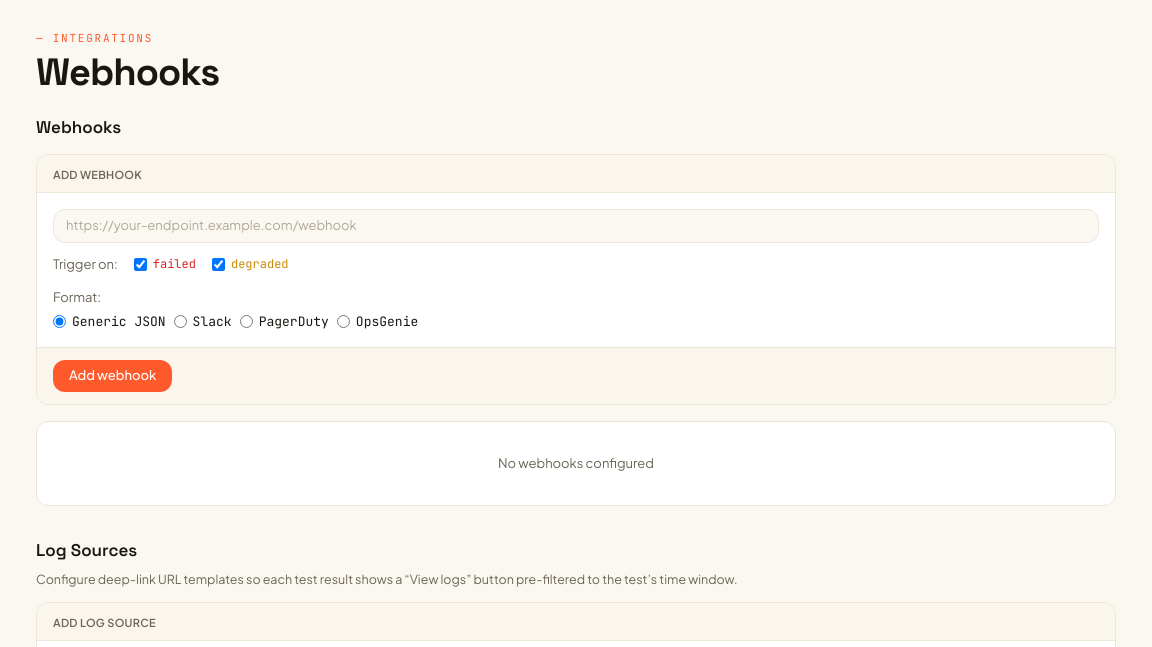
Test: WebhooksPage — webhook create flow › shows a validation error when URL is empty
Expected: the text "No webhooks configured" is shown, [36, 420, 1116, 506]
Click the button "Add webhook": (113, 376) [53, 360, 172, 392]
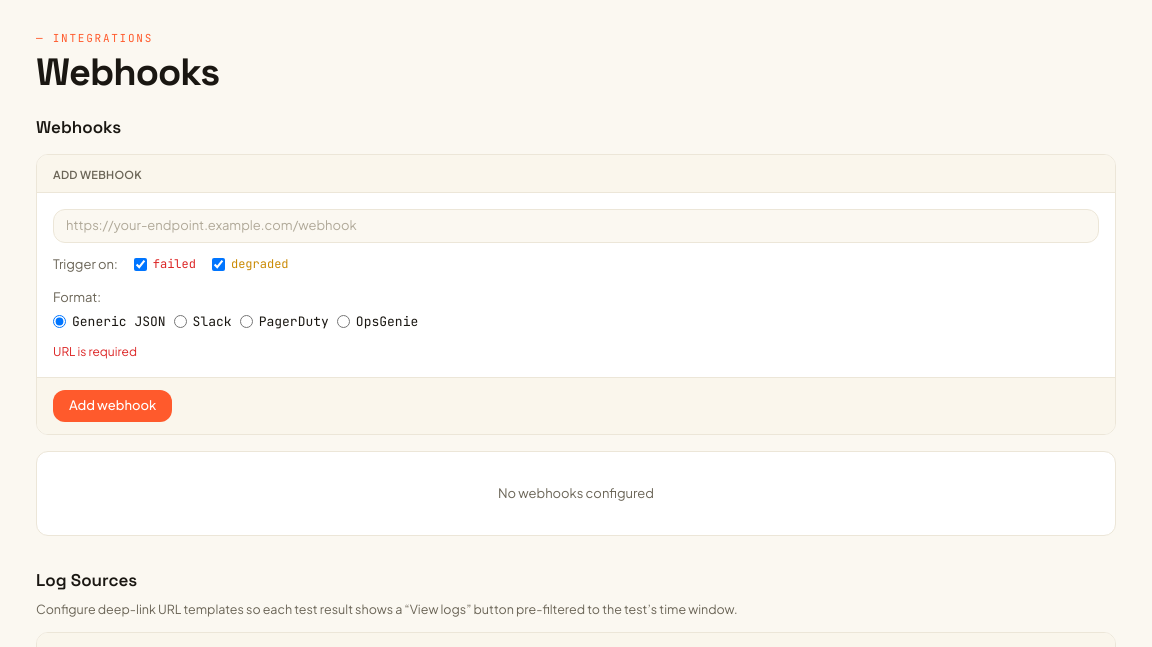
Now the text "URL is required" is shown, box [53, 344, 137, 359]
